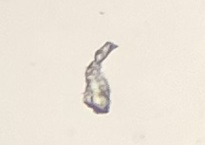microplastic: (83, 42, 119, 113)
